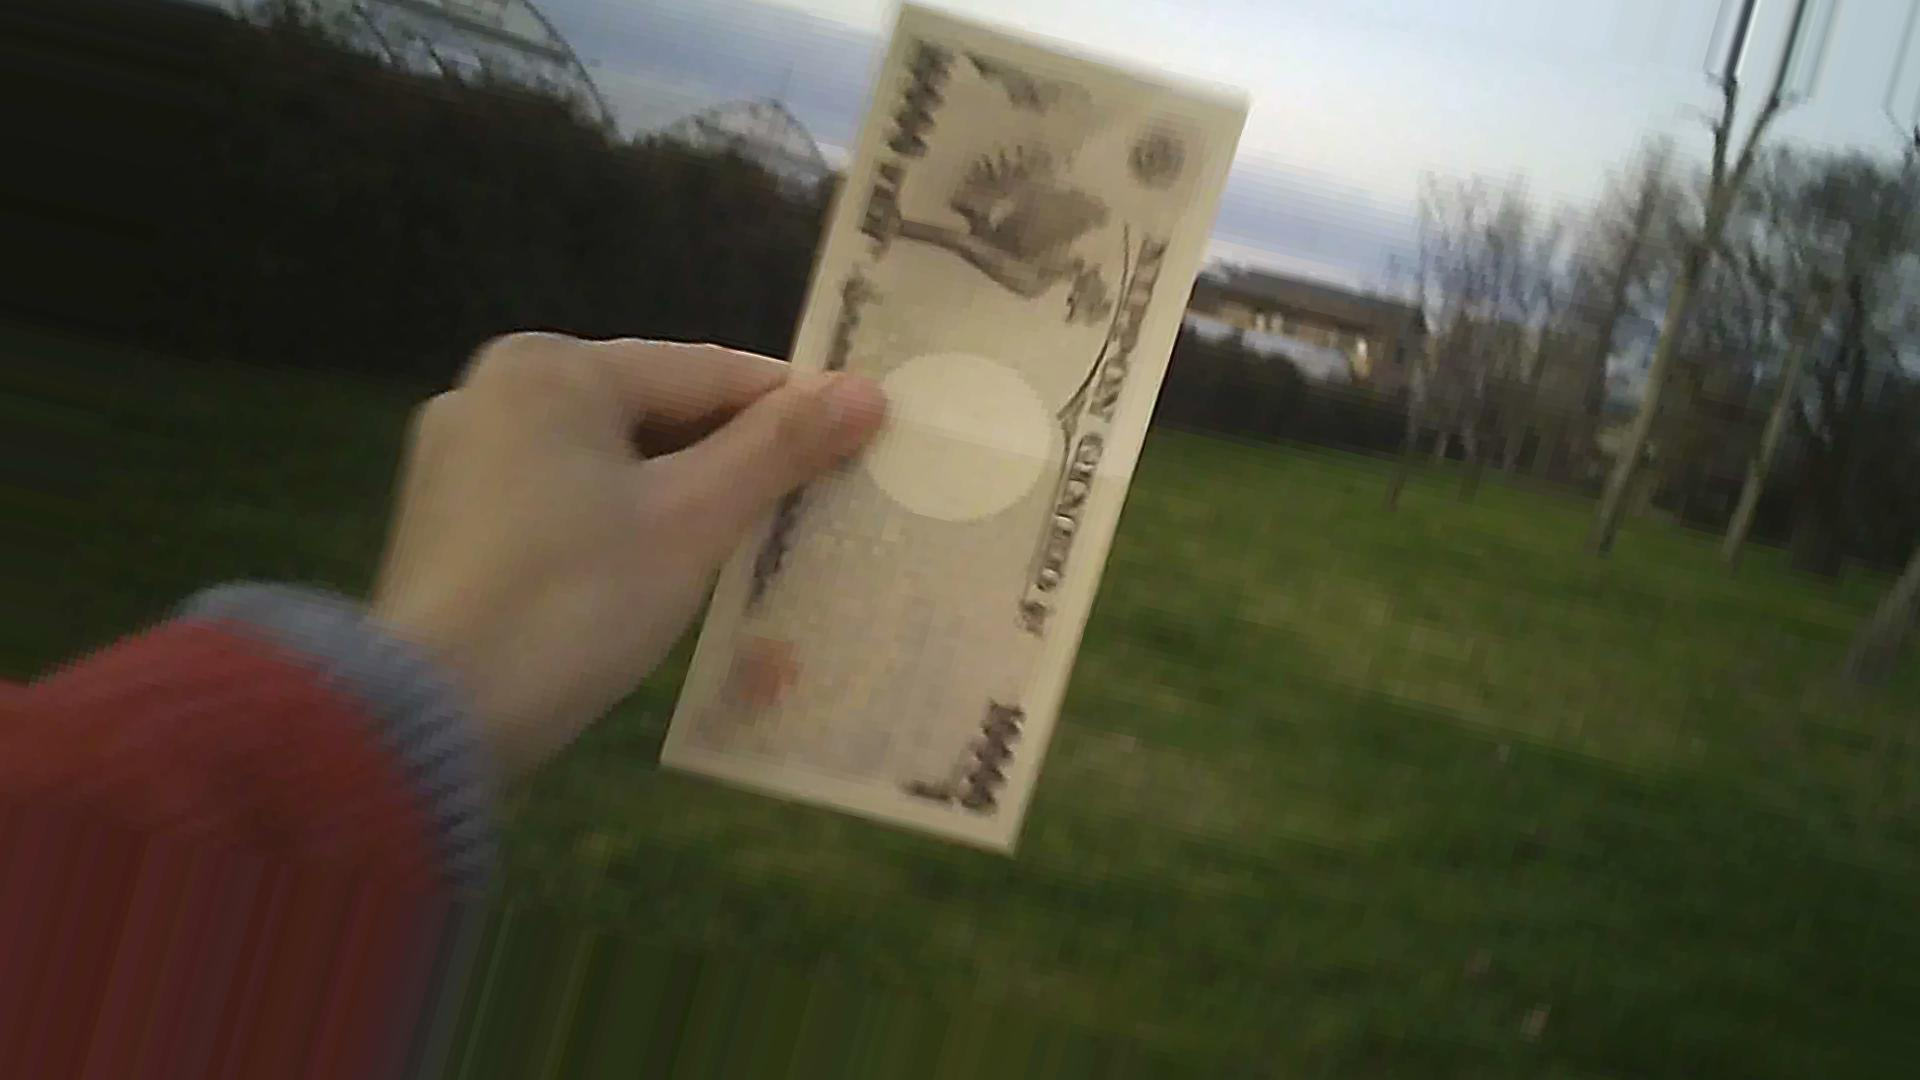10,000 Yen: (698, 7, 1246, 894)
